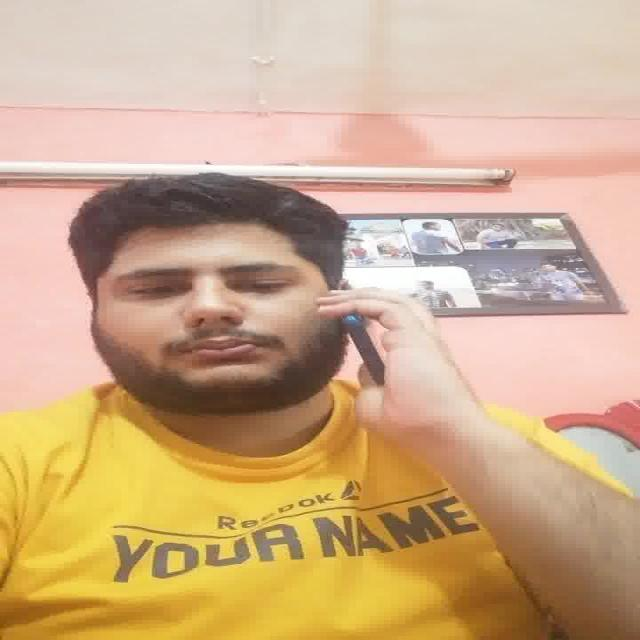Phone: (333, 274, 392, 390)
